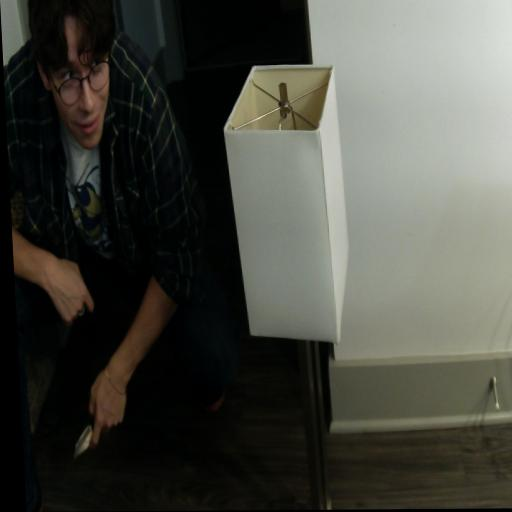lamp: (220, 65, 363, 510)
